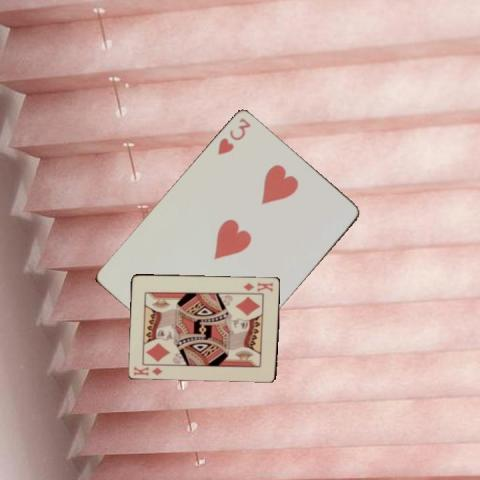3h: (214, 115, 252, 158)
Kd: (241, 279, 274, 293), (131, 364, 164, 377)
